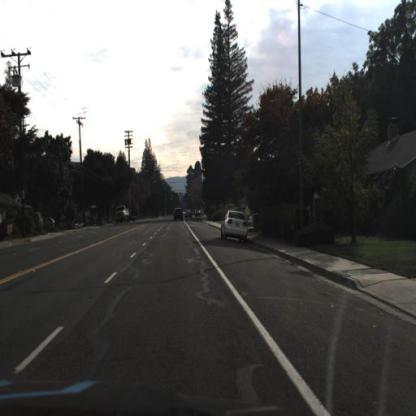car: (220, 211, 250, 245)
truck: (116, 205, 131, 224)
